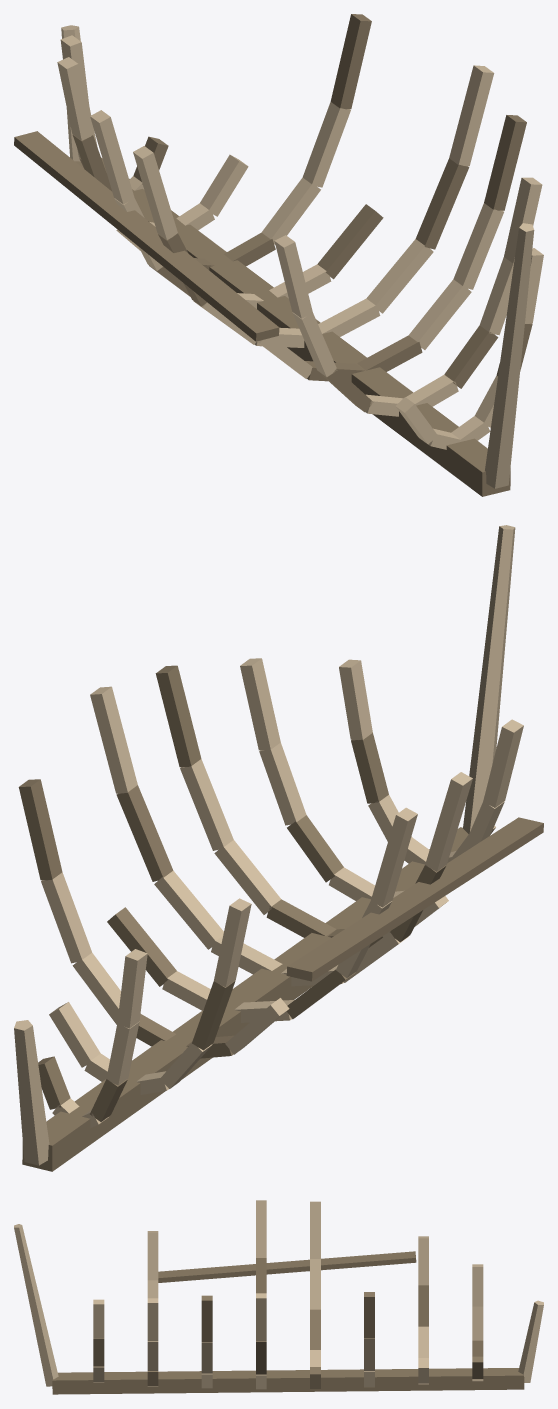
The model's file is wreck.glb.
3 renders of one model, top to bottom at view 1: azimuth 30°, elevation 25°; view 2: azimuth 150°, elevation 25°; view 3: azimuth 270°, elevation 25°, orthographic. The views are drawn at different scales.
Visible parts, largest first — view 1: driftwood_l15, driftwood_d30; view 2: driftwood_l15, driftwood_d30; view 3: driftwood_d30, driftwood_l15.
Boxes of the visible parts, x1,y1,x2,y2 form: driftwood_l15: (57, 25, 543, 488); driftwood_d30: (14, 14, 532, 496); driftwood_l15: (14, 525, 523, 1165); driftwood_d30: (18, 665, 543, 1171); driftwood_d30: (52, 1251, 524, 1394); driftwood_l15: (14, 1200, 543, 1389).
Bounding box in the file's own units: 3 × 2.36 × 6.85.
